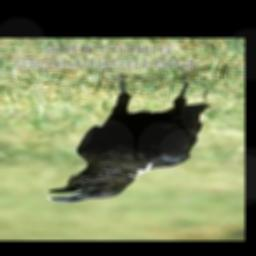Crow: (40, 71, 216, 206)
